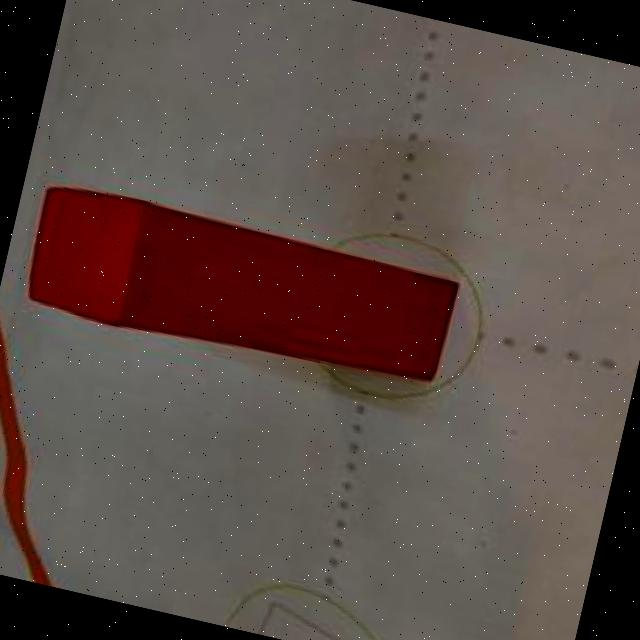redbox: (20, 181, 458, 380)
